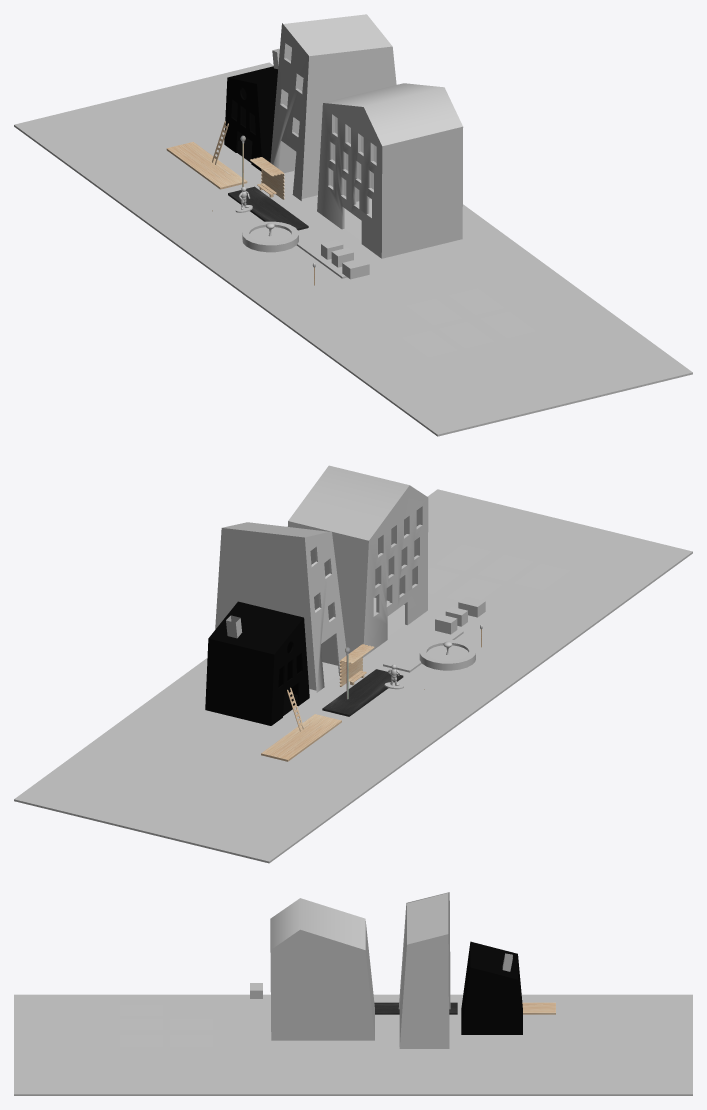
The model's file is AgniBasicLevelElements.fbx.
The picture shows the model from 3 angles, top to bottom: view 1: azimuth 30°, elevation 25°; view 2: azimuth 150°, elevation 25°; view 3: azimuth 270°, elevation 25°; orthographic projection. The views are drawn at different scales.
Visible parts, largest first — view 1: MetalFloorTable, BuildingB, BuildingA, BuildingC, SideWalk_DarkWood, SideWalk_Stone, Fountain, BusStop, WaterPlane, CardBoardPlane(2500Polys), CardBoardPlane(400Polys), PaperPlane(2500Polys) (+2 smaller); view 2: MetalFloorTable, BuildingB, BuildingA, BuildingC, SideWalk_DarkWood, SideWalk_Stone, SideWalk_Metal, Fountain, BusStop, CardBoardPlane(2500Polys), CardBoardPlane(400Polys), WaterPlane (+1 smaller); view 3: MetalFloorTable, BuildingB, BuildingA, BuildingC, PaperPlane(400Polys), CardBoardPlane(2500Polys), PaperPlane(2500Polys), CardBoardPlane(400Polys), WaterPlane, SideWalk_DarkWood, SideWalk_Stone.
Boxes of the visible parts, <box> form: MetalFloorTable: <box>14,62,692,436</box>; BuildingB: <box>317,83,463,258</box>; BuildingA: <box>270,14,396,200</box>; BuildingC: <box>224,48,279,171</box>; SideWalk_DarkWood: <box>166,142,247,189</box>; SideWalk_Stone: <box>228,186,308,230</box>; Fountain: <box>242,221,298,252</box>; BusStop: <box>250,157,284,199</box>; WaterPlane: <box>402,330,456,357</box>; CardBoardPlane(2500Polys): <box>481,311,535,337</box>; CardBoardPlane(400Polys): <box>439,322,493,348</box>; PaperPlane(2500Polys): <box>449,288,503,314</box>; MetalFloorTable: <box>14,489,692,863</box>; BuildingB: <box>287,465,428,657</box>; BuildingA: <box>215,522,346,692</box>; BuildingC: <box>205,601,309,725</box>; SideWalk_DarkWood: <box>261,714,341,761</box>; SideWalk_Stone: <box>322,669,403,716</box>; SideWalk_Metal: <box>383,626,463,672</box>; Fountain: <box>419,640,475,670</box>; BusStop: <box>339,644,374,686</box>; CardBoardPlane(2500Polys): <box>436,544,491,570</box>; CardBoardPlane(400Polys): <box>478,554,532,581</box>; WaterPlane: <box>514,563,569,589</box>; MetalFloorTable: <box>14,994,692,1095</box>; BuildingB: <box>270,898,374,1040</box>; BuildingA: <box>398,892,450,1048</box>; BuildingC: <box>461,941,522,1034</box>; PaperPlane(400Polys): <box>170,1018,213,1030</box>; CardBoardPlane(2500Polys): <box>119,1035,162,1046</box>; PaperPlane(2500Polys): <box>170,1035,213,1046</box>; CardBoardPlane(400Polys): <box>119,1019,162,1030</box>; WaterPlane: <box>119,1004,162,1015</box>; SideWalk_DarkWood: <box>522,1002,555,1014</box>; SideWalk_Stone: <box>374,1002,457,1014</box>.
Size of the model in its own units: 94.71 by 66.11 by 272.
